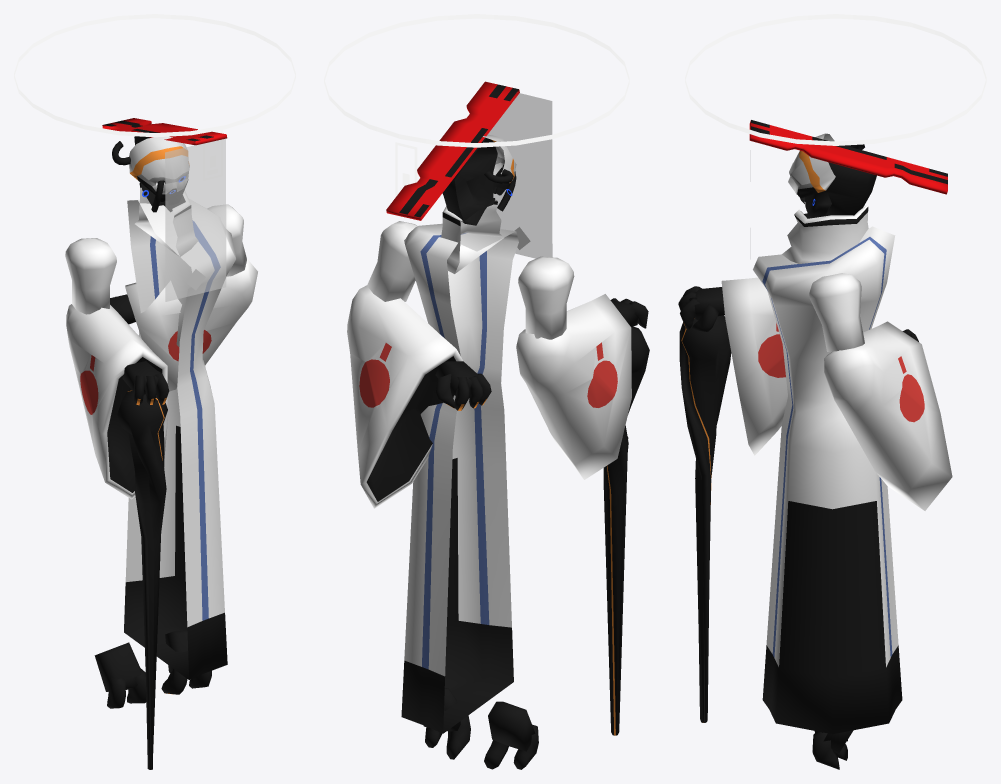
Rendered from DRIZZLE.glb.
3 renders of one model, left to right at view 1: azimuth 30°, elevation 25°; view 2: azimuth 150°, elevation 25°; view 3: azimuth 270°, elevation 25°, orthographic. The views are drawn at different scales.
Parts seen in each view (by area): view 1: Cube, Plane.001, Cube.009, Cube.005, Cube.004, Cube.007, Cube.025, Circle, Cube.001, Cube.018, Plane, Cube.003 (+2 smaller); view 2: Cube, Cube.004, Cube.009, Plane.001, Cube.005, Plane, Cube.007, Circle, Cube.003, Cube.002, Cube.001, Cube.018 (+3 smaller); view 3: Cube, Cube.004, Cube.005, Cube.009, Plane, Cube.003, Cube.001, Circle, Cube.002, Cube.025, Cube.011, Cube.010.
Boxes of the visible parts, box(x1,y1,x2,y2) form: Cube: box(124, 199, 235, 679); Plane.001: box(165, 138, 226, 301); Cube.009: box(66, 304, 167, 499); Cube.005: box(117, 390, 167, 769); Cube.004: box(125, 258, 257, 391); Cube.007: box(65, 238, 116, 314); Cube.025: box(129, 136, 189, 201); Circle: box(14, 14, 295, 137); Cube.001: box(135, 182, 198, 256); Cube.018: box(94, 642, 141, 691); Plane: box(102, 118, 227, 145); Cube.003: box(207, 204, 246, 276); Cube: box(401, 223, 518, 733); Cube.004: box(347, 285, 462, 508); Cube.009: box(516, 294, 631, 479); Plane.001: box(488, 93, 552, 258); Cube.005: box(603, 326, 649, 735); Plane: box(386, 81, 519, 220); Cube.007: box(518, 256, 574, 339); Circle: box(324, 14, 629, 147); Cube.003: box(367, 221, 417, 301); Cube.002: box(442, 137, 497, 225); Cube.001: box(441, 198, 503, 273); Cube.018: box(488, 701, 535, 751); Cube: box(753, 226, 902, 734); Cube.004: box(823, 321, 952, 510); Cube.005: box(679, 315, 731, 722); Cube.009: box(721, 277, 787, 455); Plane: box(749, 120, 947, 194); Cube.003: box(809, 273, 864, 351); Cube.001: box(782, 205, 868, 263); Circle: box(685, 14, 986, 145); Cube.002: box(805, 162, 876, 217); Cube.025: box(788, 133, 835, 205); Cube.011: box(689, 287, 724, 320); Cube.010: box(812, 731, 839, 769).
Bounding box in the file's own units: 0.8866 × 2.2 × 0.9059.
